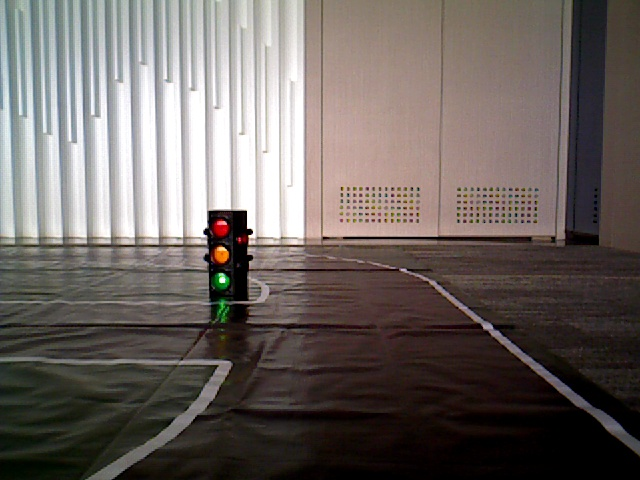green: (208, 215, 236, 290)
